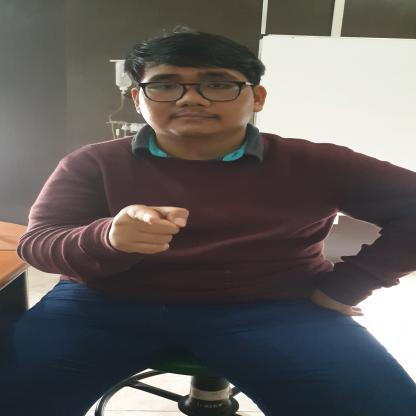Kamu: (98, 200, 195, 262)
